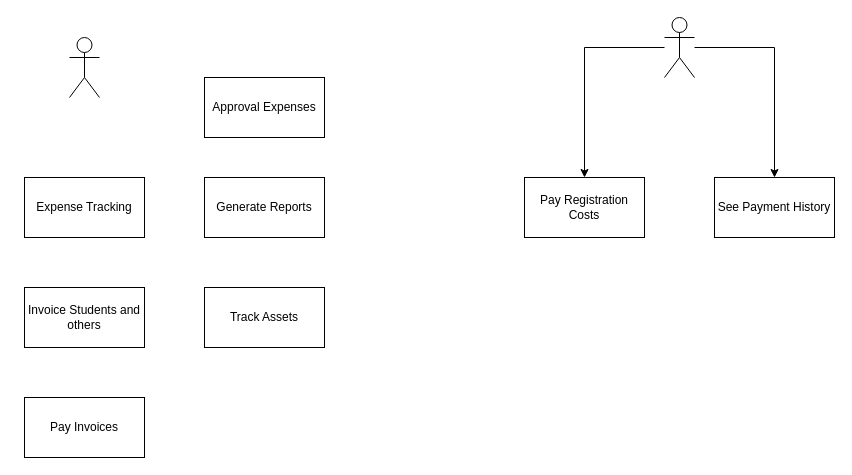
This 852x475 diagram has some shape labels left out. The shapes that lost their labels are listed below. From the top down, each one's centre as x and y in pixels, then its label:
(84,67): President / Staff / Faculty
(679,47): Students/Parents
